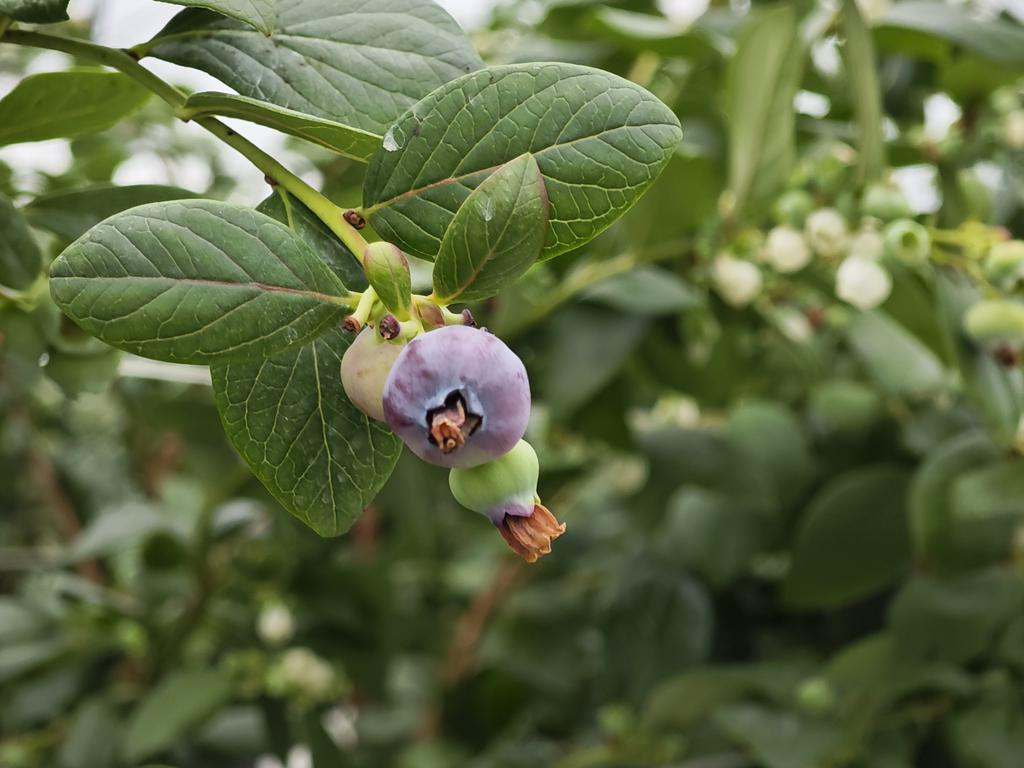Semi-RipeBlueBerry: (379, 321, 533, 469)
